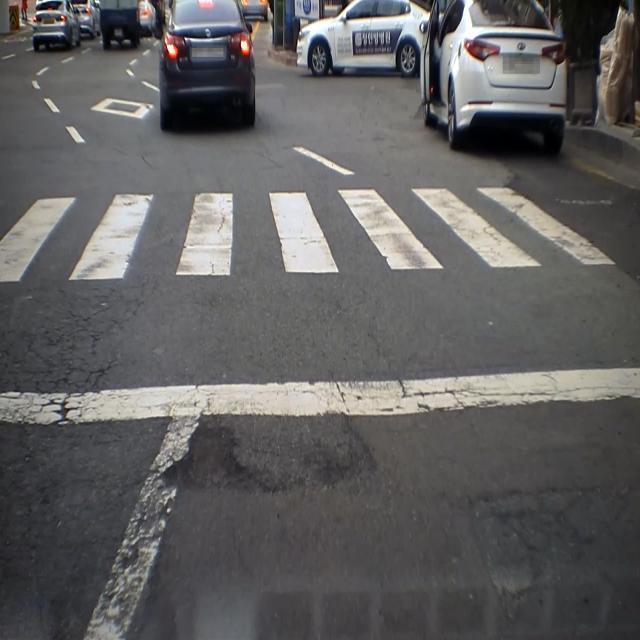pothole: (148, 409, 306, 505), (294, 411, 383, 501)
